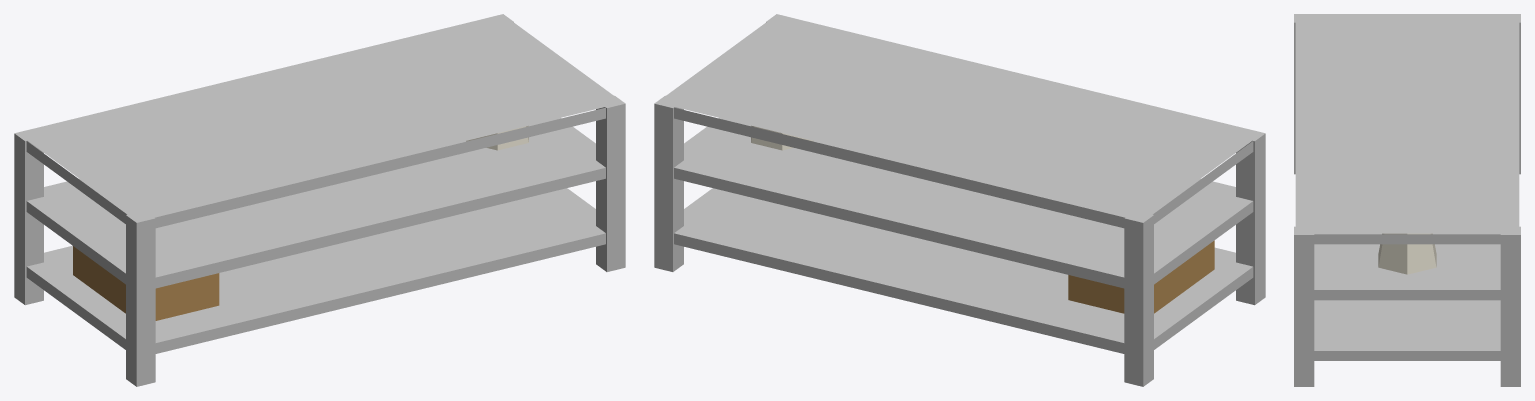
Rendered from shelf.obj.
3 renders of one model, left to right at view 1: azimuth 30°, elevation 25°; view 2: azimuth 150°, elevation 25°; view 3: azimuth 270°, elevation 25°, orthographic. The views are drawn at different scales.
Parts seen in each view (by area): view 1: shelf; view 2: shelf; view 3: shelf.
Boxes of the visible parts, x1=… form: shelf: x1=14, y1=14, x2=625, y2=386; shelf: x1=654, y1=14, x2=1265, y2=386; shelf: x1=1294, y1=14, x2=1520, y2=386.
Bounding box in the file's own units: 1.87 × 0.603 × 0.812.
